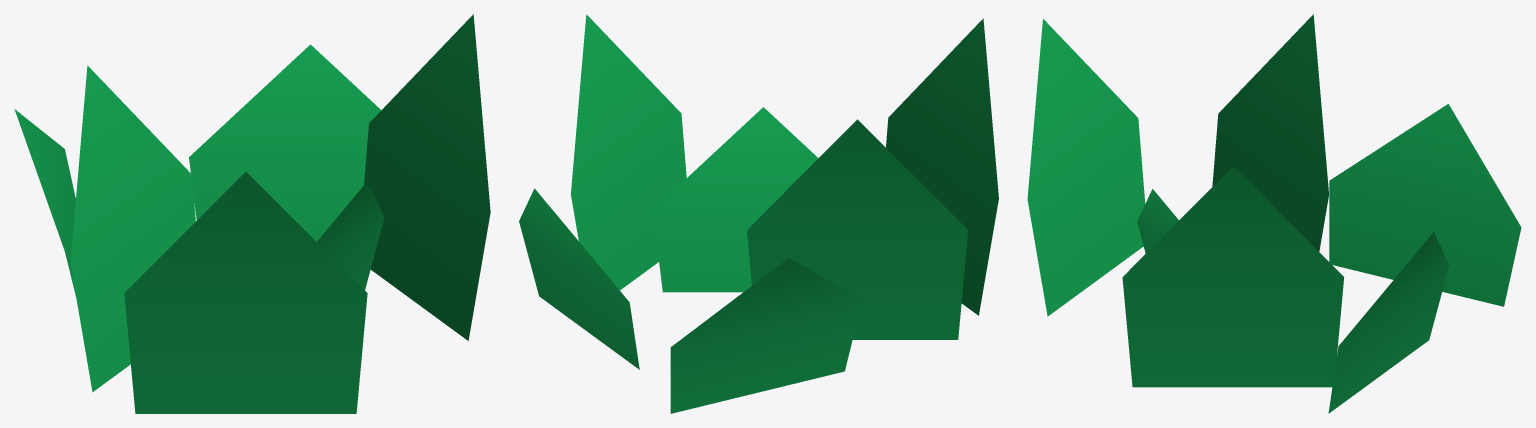
The model's file is grass.obj.
3 views of the same model, side by side, from view 1: azimuth 30°, elevation 25°; view 2: azimuth 150°, elevation 25°; view 3: azimuth 270°, elevation 25° (orthographic). The views are drawn at different scales.
Visible parts, largest first — view 1: grass; view 2: grass; view 3: grass.
Part boxes in pixels (box(x1,y1,x2,y2)): grass: box(14, 14, 490, 413); grass: box(519, 14, 998, 413); grass: box(1027, 14, 1521, 413).
Bounding box in the file's own units: 0.2345 × 0.1425 × 0.2573.
